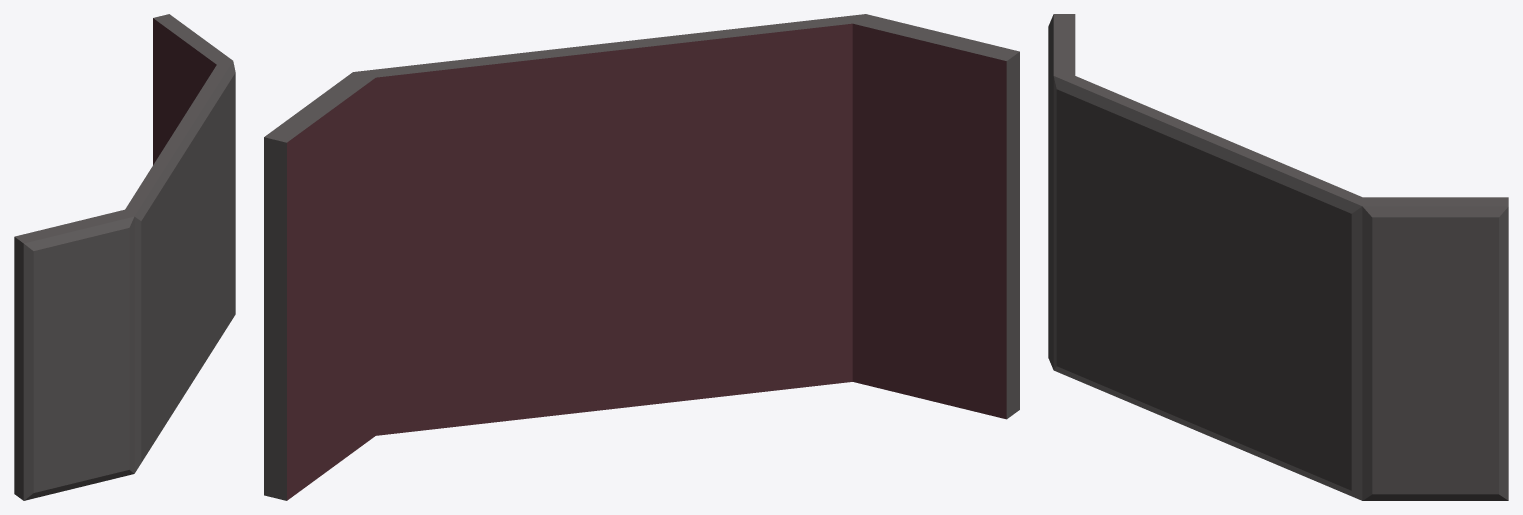
File: scifi-wall-outside-edge.fbx
The picture shows the model from 3 angles, left to right: view 1: azimuth 30°, elevation 25°; view 2: azimuth 150°, elevation 25°; view 3: azimuth 270°, elevation 25°; orthographic projection. The views are drawn at different scales.
Visible parts, largest first — view 1: scifi-wall-outside-edge; view 2: scifi-wall-outside-edge; view 3: scifi-wall-outside-edge.
Part boxes in pixels (x1,y1,x2,y2): scifi-wall-outside-edge: [14, 14, 235, 500]; scifi-wall-outside-edge: [264, 14, 1019, 500]; scifi-wall-outside-edge: [1048, 14, 1508, 500].
Size of the model in its own units: 4.25 by 3 by 4.25.
